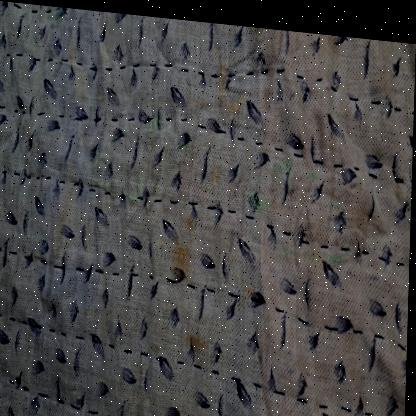spot: (269, 147, 306, 210), (273, 237, 359, 263), (211, 51, 243, 115), (170, 232, 196, 280), (247, 172, 275, 211), (184, 319, 210, 358), (209, 157, 224, 194), (241, 269, 259, 299), (184, 207, 201, 238)
